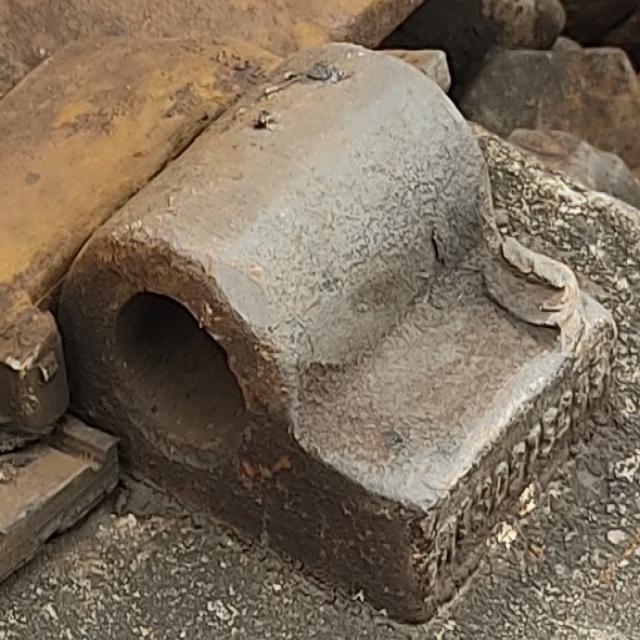track_bolt_missing: (51, 34, 495, 415)
